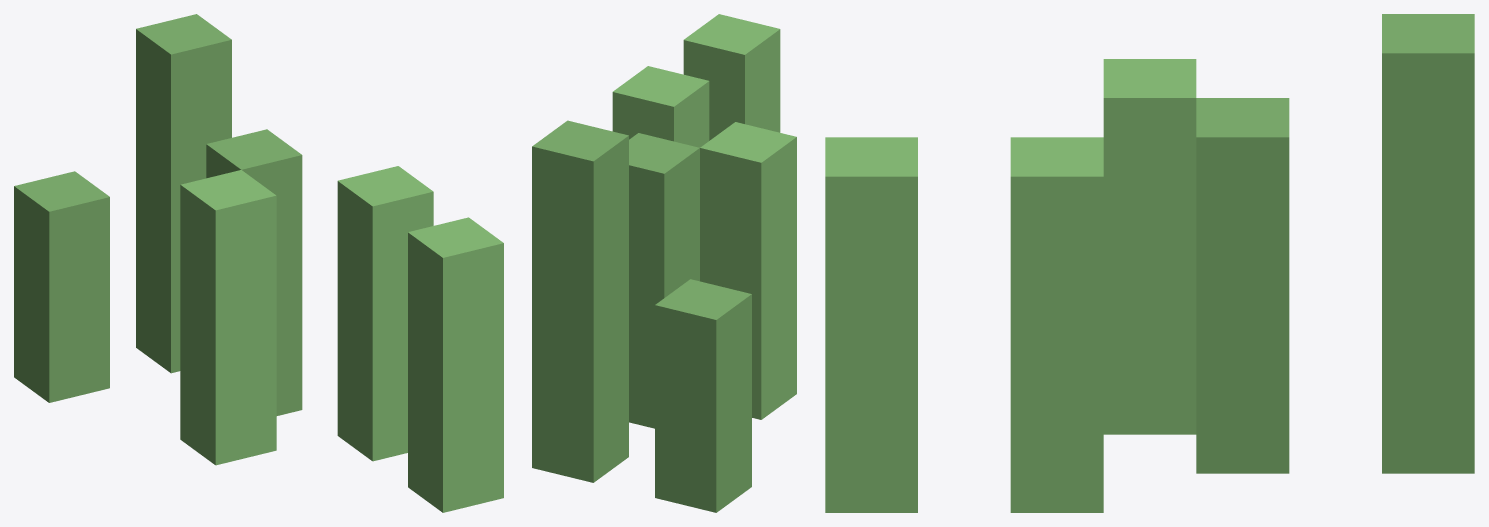
The model's file is trebol_01.glb.
3 views of the same model, side by side, from view 1: azimuth 30°, elevation 25°; view 2: azimuth 150°, elevation 25°; view 3: azimuth 270°, elevation 25° (orthographic). The views are drawn at different scales.
Parts seen in each view (by area): view 1: trebol_01; view 2: trebol_01; view 3: trebol_01.
Part boxes in pixels (x1,y1,x2,y2): trebol_01: (14,14,503,512); trebol_01: (532,14,796,512); trebol_01: (825,14,1474,512).
Size of the model in its own units: 0.4 by 0.5 by 0.7.
